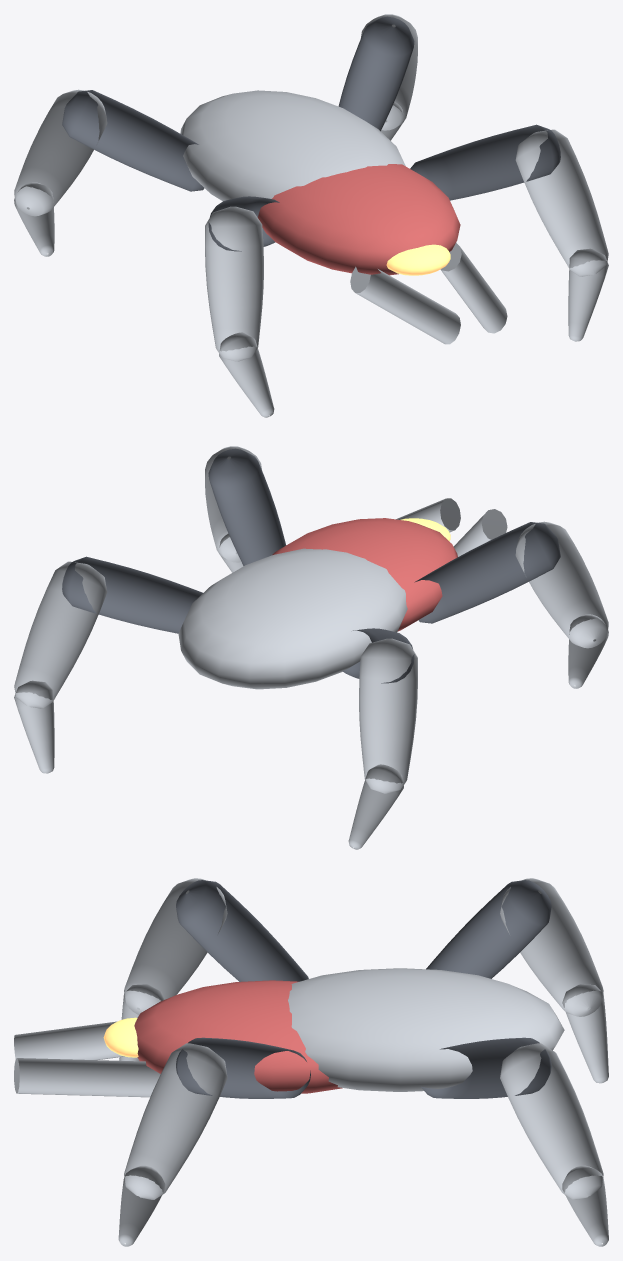
The model's file is dron.glb.
3 renders of one model, top to bottom at view 1: azimuth 30°, elevation 25°; view 2: azimuth 150°, elevation 25°; view 3: azimuth 270°, elevation 25°, orthographic. The views are drawn at different scales.
Parts seen in each view (by area): view 1: Hull; view 2: Hull; view 3: Hull.
Boxes of the visible parts, x1,y1,x2,y2 form: Hull: (14,14,608,417); Hull: (14,446,608,849); Hull: (14,878,608,1246).
Bounding box in the file's own units: 1.27 × 0.5884 × 1.56.
